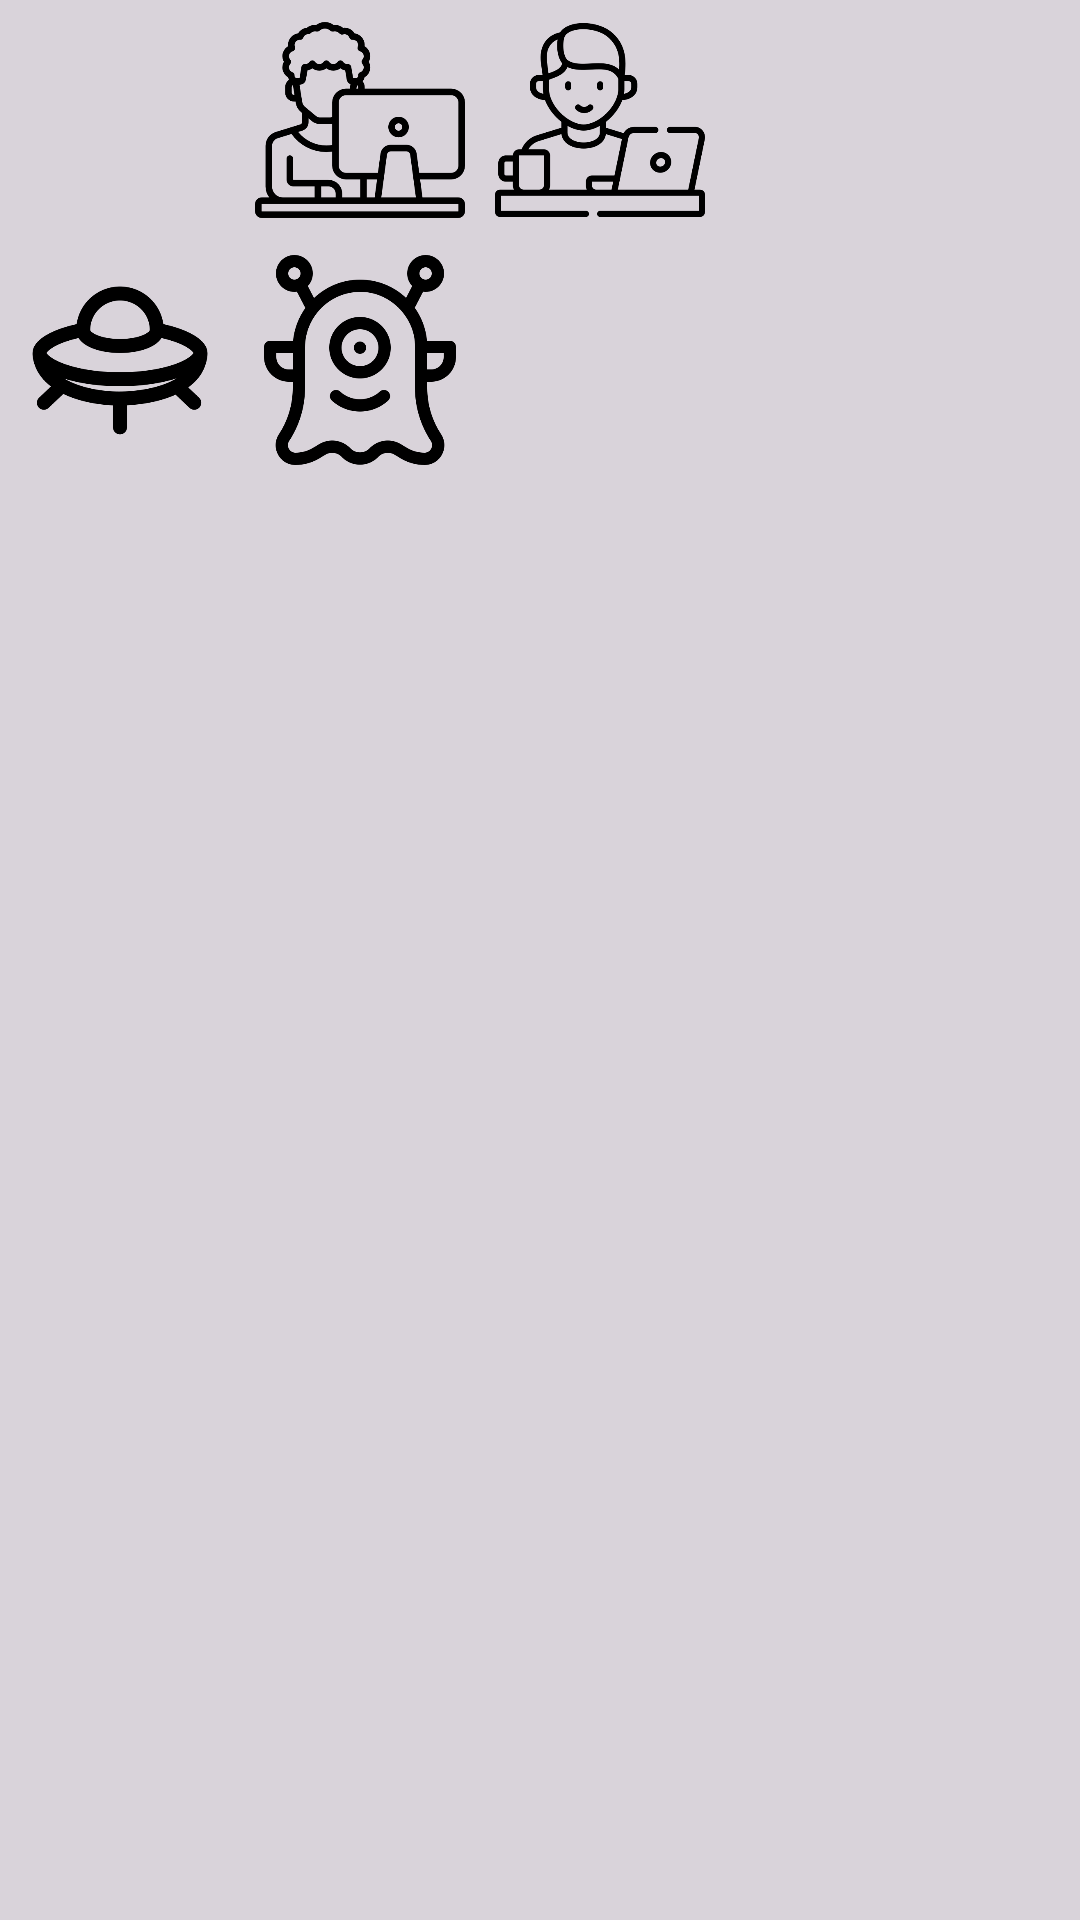

Screen size 1080x1920. Icon name, then its center in pixels as (x,y):
ailen: (360,360)
ufo: (120,360)
user: (360,120), (600,120)
